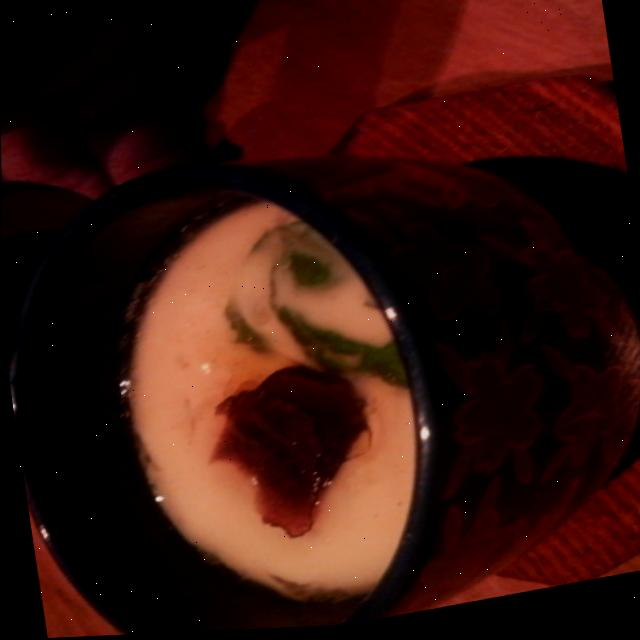鸡蛋料理: (1, 102, 640, 640)
